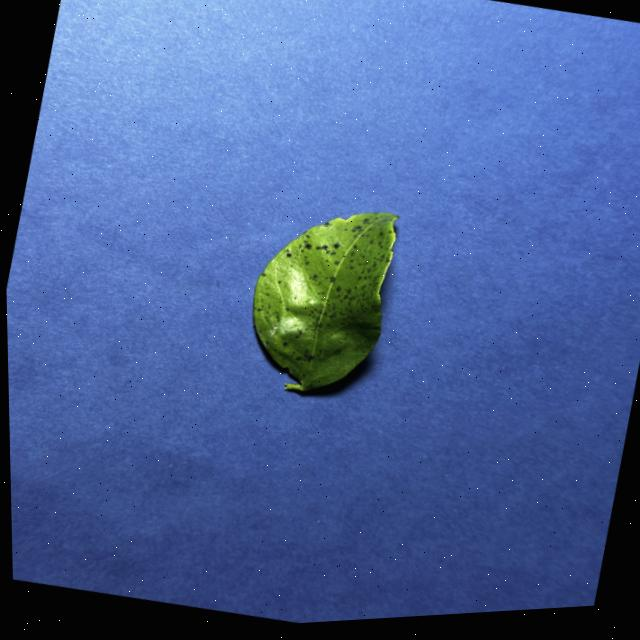sooty_mold: (253, 213, 396, 391)
